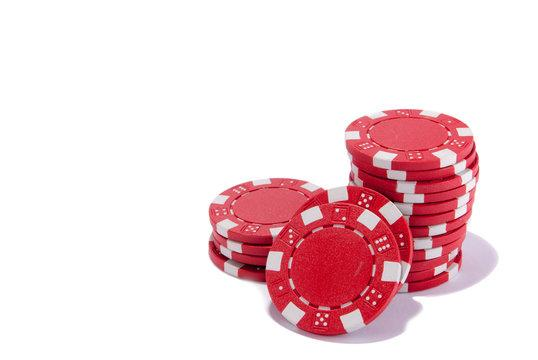chip-red: (266, 202, 402, 335), (297, 186, 413, 283), (345, 109, 474, 177), (210, 179, 321, 244), (359, 143, 477, 180), (351, 160, 478, 193), (377, 176, 478, 203), (399, 252, 461, 292), (394, 187, 476, 215), (209, 241, 265, 281), (405, 198, 474, 226), (413, 227, 465, 261), (411, 211, 472, 237), (413, 224, 467, 250), (212, 233, 271, 256), (214, 240, 266, 265), (410, 247, 460, 272), (406, 260, 454, 282), (350, 172, 364, 184)
